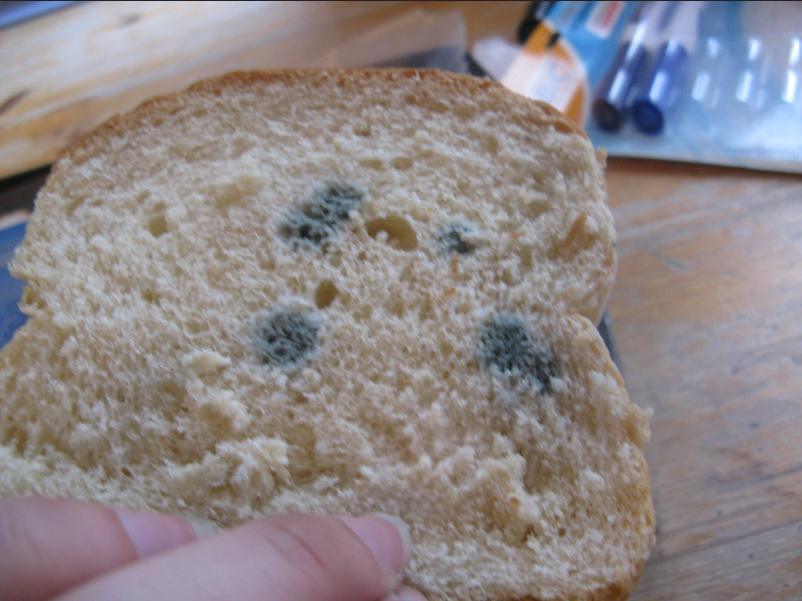mold_bread: (468, 306, 569, 413), (265, 177, 364, 257), (245, 298, 328, 375), (427, 215, 480, 259)
